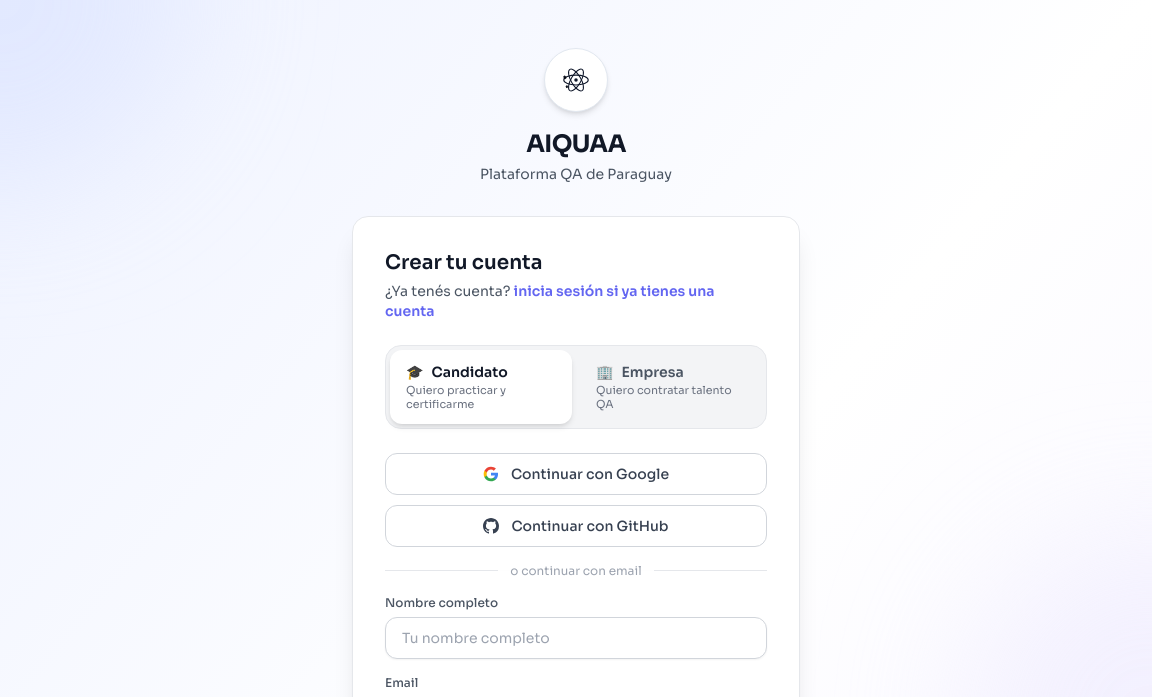
it: RegisterForm › Form Validation › muestra error si el nombre contiene números (issue #24)
This screenshot has width=1152, height=697.
Type "234234 43234324" into the field labelled "Nombre completo" at [576, 638], box [385,616,767,658]
(page scrolled)
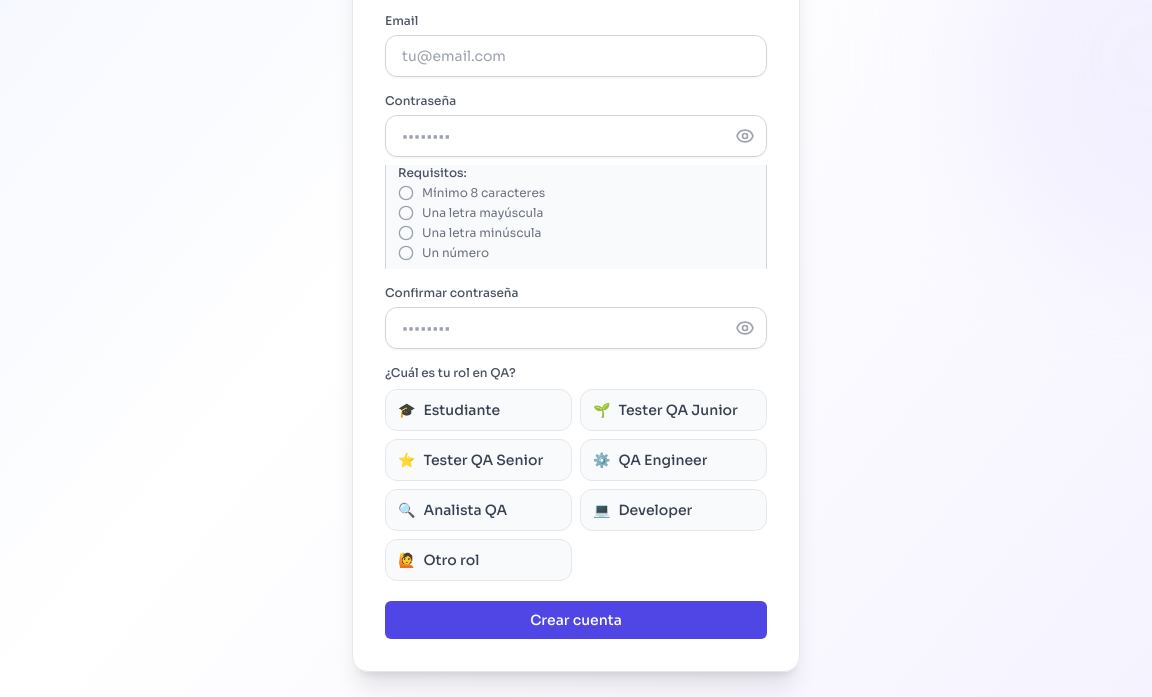
Click the button "Crear cuenta" at [576, 620], box [385,600,767,638]
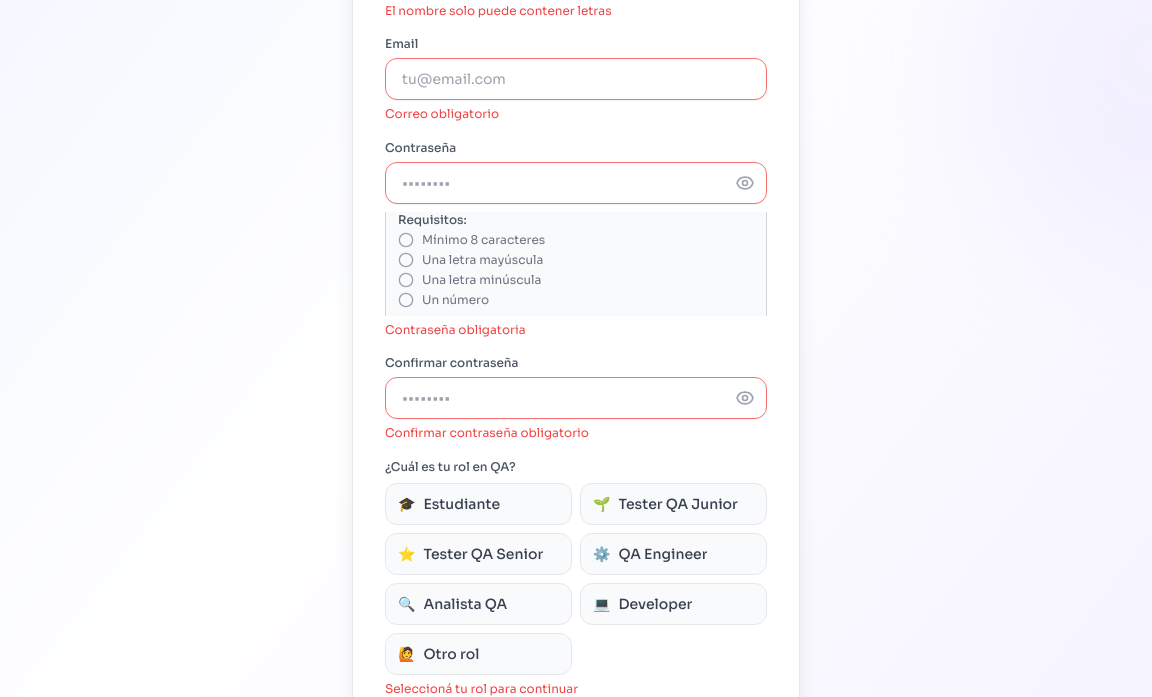
Now the text "El nombre solo puede contener letras" is shown, box [385,2,612,18]
